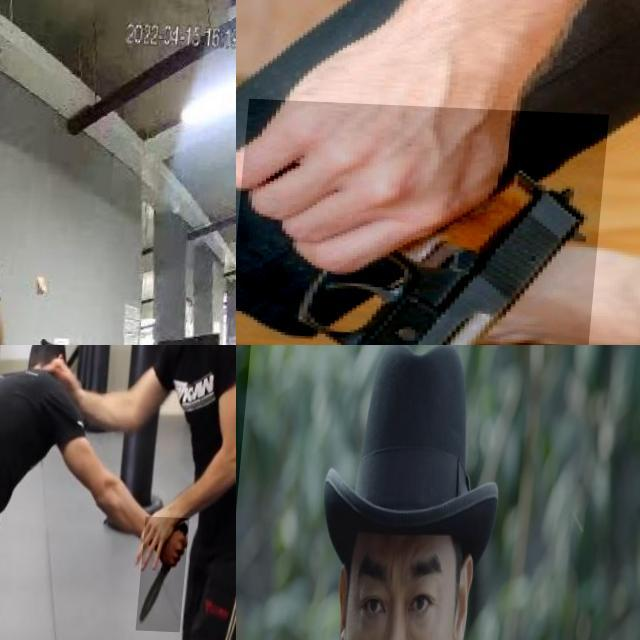-: (144, 512, 197, 628)
gun-knife-thesis - v11 Yolov5 augmented: (236, 98, 612, 345), (236, 345, 306, 640)
